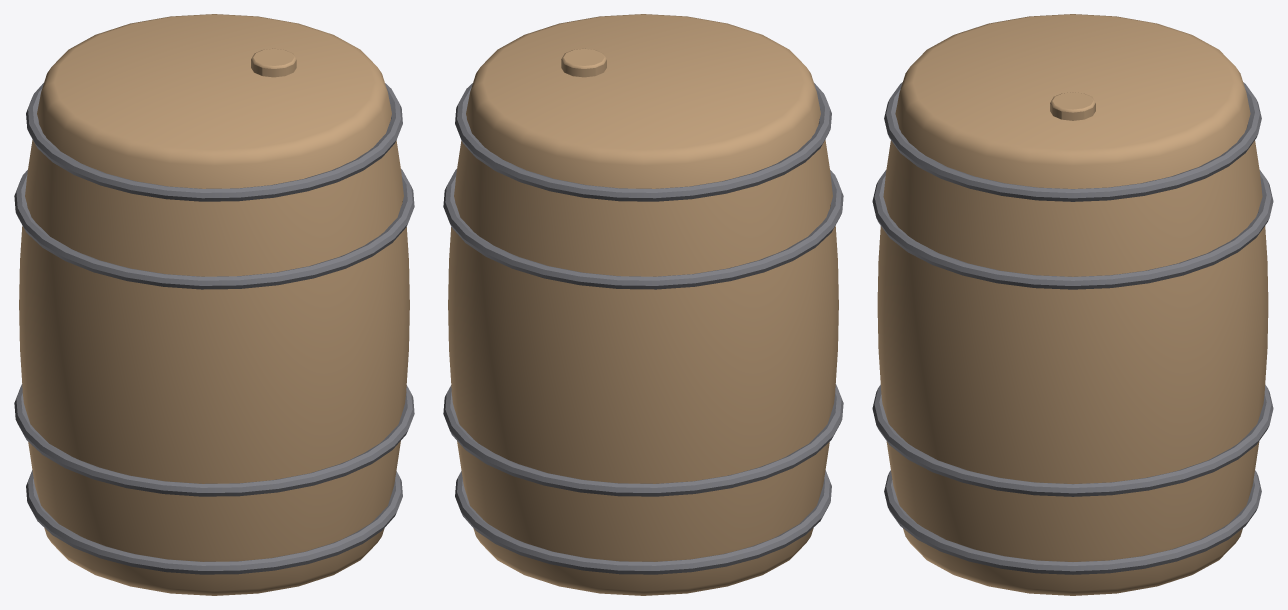
The model's file is barrel.glb.
3 views of the same model, side by side, from view 1: azimuth 30°, elevation 25°; view 2: azimuth 150°, elevation 25°; view 3: azimuth 270°, elevation 25° (orthographic).
Visible parts, largest first — view 1: Barrel; view 2: Barrel; view 3: Barrel.
Boxes of the visible parts, x1=… form: Barrel: x1=14, y1=14, x2=414, y2=595; Barrel: x1=443, y1=14, x2=843, y2=595; Barrel: x1=872, y1=14, x2=1273, y2=595.
Size of the model in its own units: 0.7018 by 0.88 by 0.7018.
